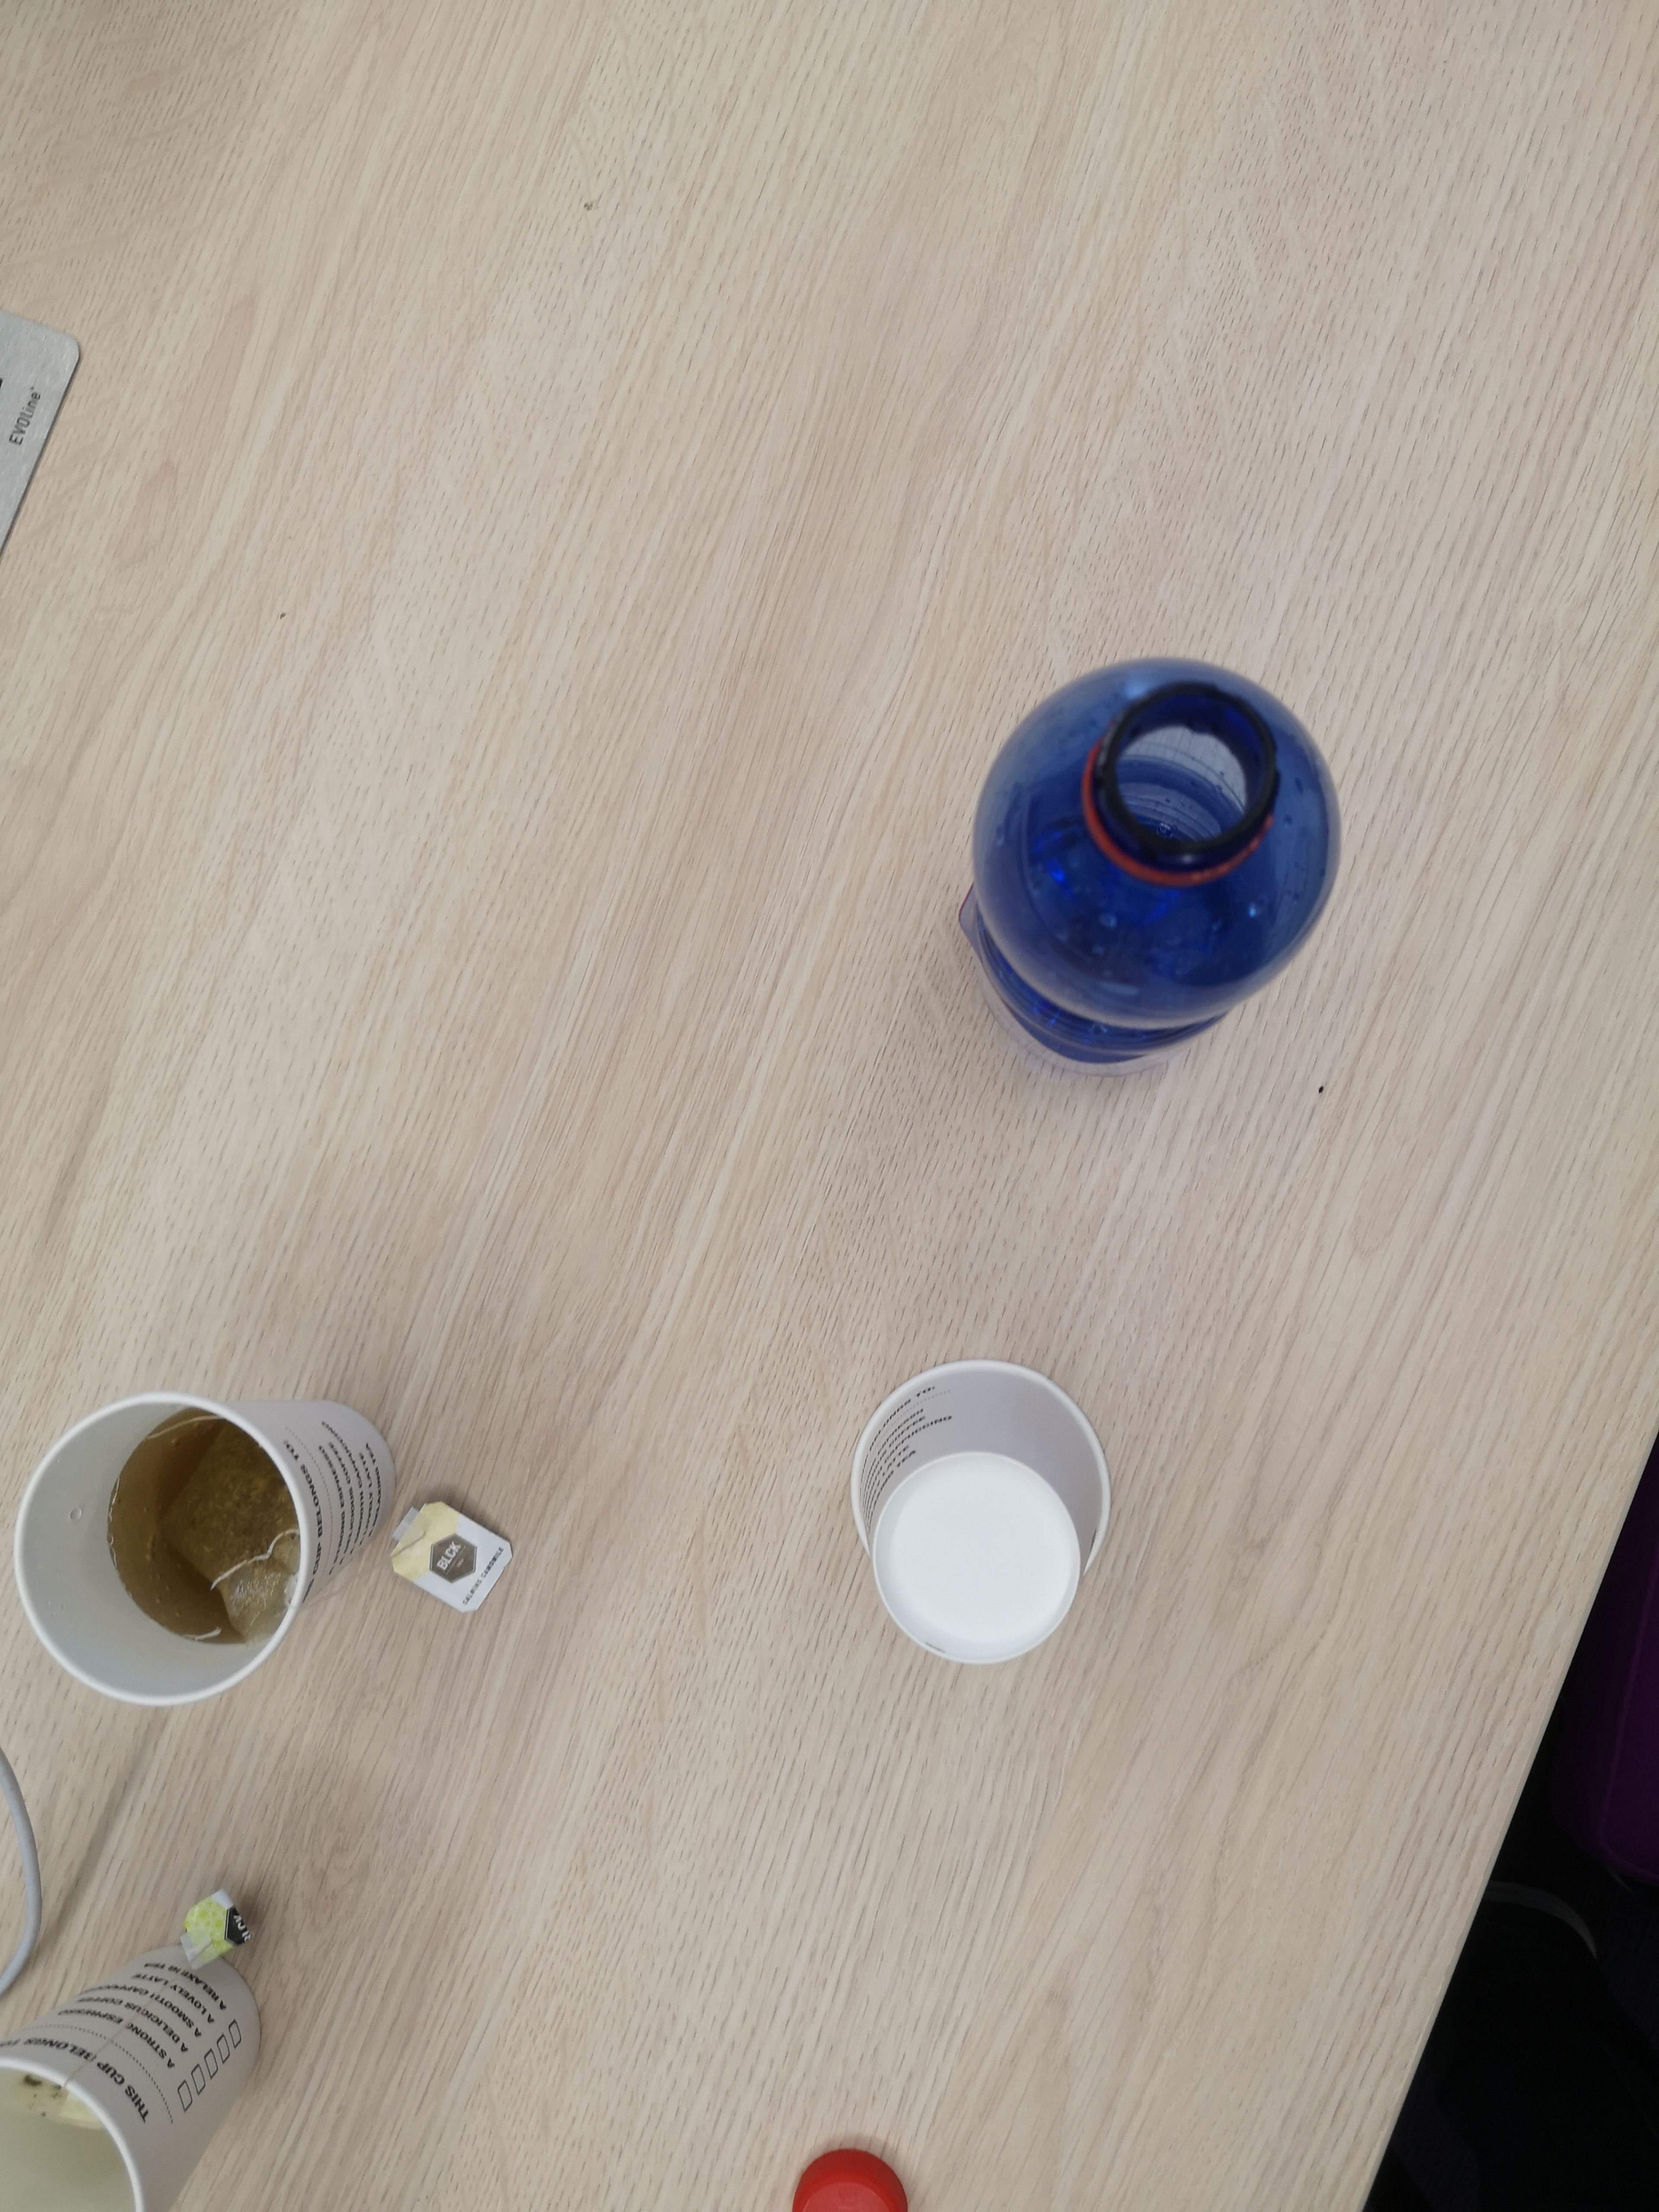cup: (9, 1336, 434, 1737), (819, 1336, 1152, 1679), (0, 1872, 296, 2212)
plastic_bottle: (945, 620, 1377, 1094)
